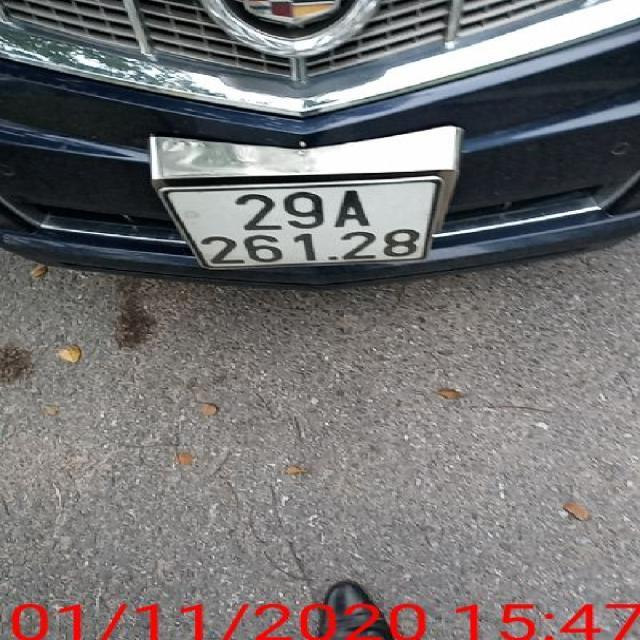bien_so_oto: (154, 175, 448, 272)
